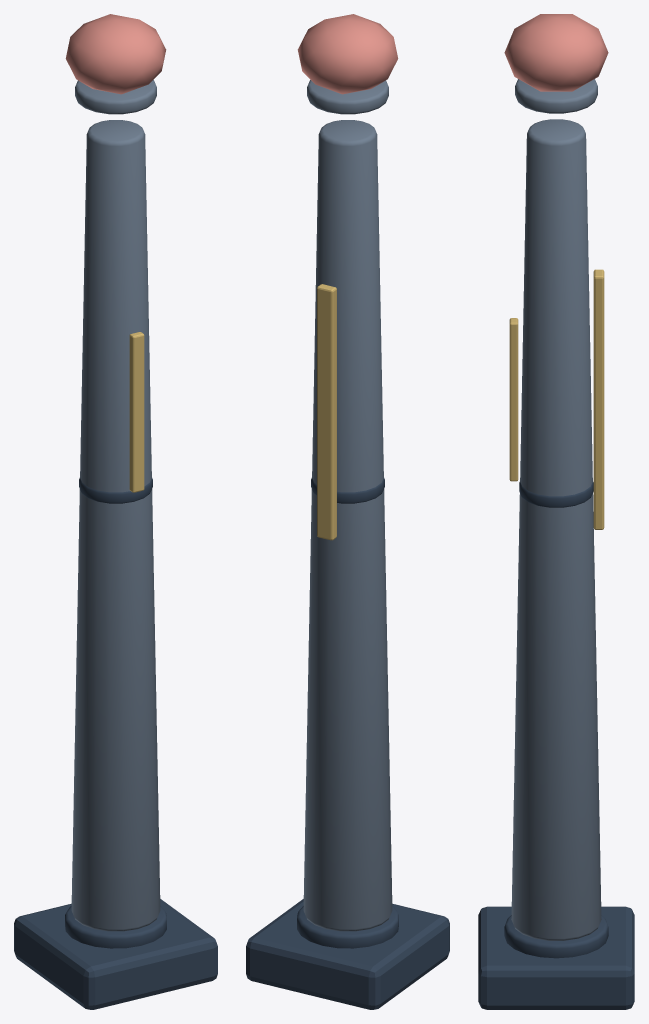
The model's file is PylonAccent_M.fbx.
The picture shows the model from 3 angles, left to right: view 1: azimuth 30°, elevation 25°; view 2: azimuth 150°, elevation 25°; view 3: azimuth 270°, elevation 25°; orthographic projection.
Parts seen in each view (by area): view 1: PylonAccent_M; view 2: PylonAccent_M; view 3: PylonAccent_M.
Part boxes in pixels (x1,y1,x2,y2): PylonAccent_M: [14, 14, 217, 1009]; PylonAccent_M: [246, 14, 449, 1009]; PylonAccent_M: [478, 14, 634, 1009].
Size of the model in its own units: 0.9 by 6.12 by 0.9.
